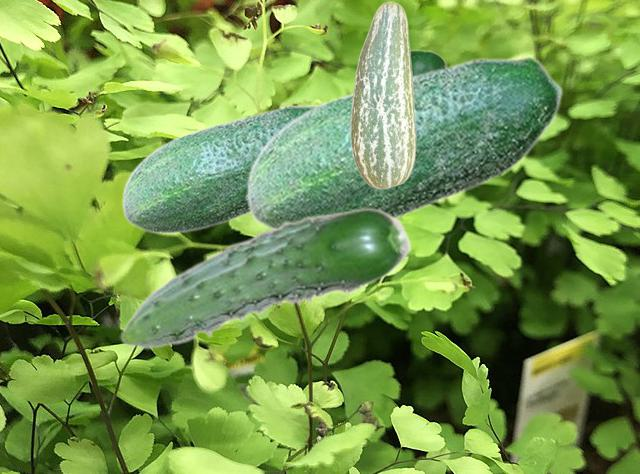cucumber: (245, 55, 563, 229), (119, 207, 411, 348), (121, 103, 315, 233), (350, 1, 415, 188), (411, 49, 447, 73)
